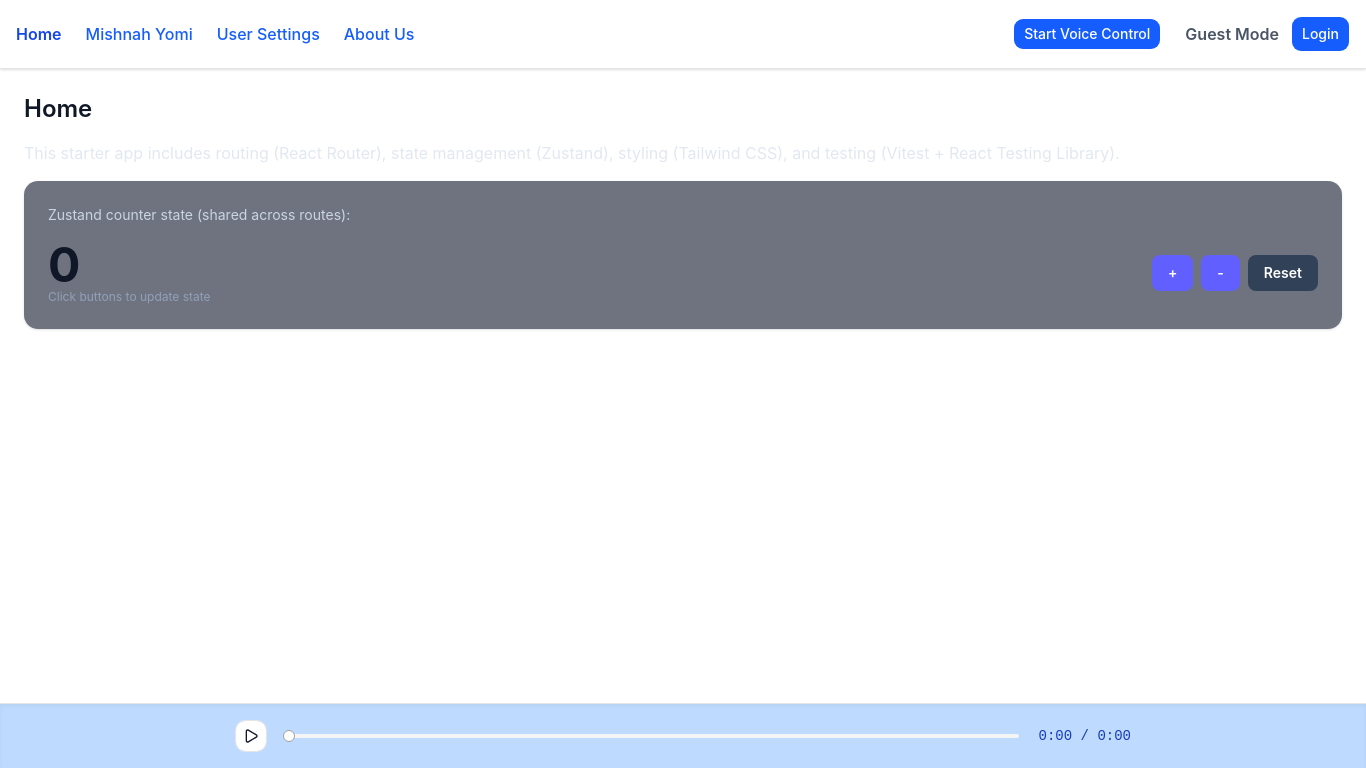
Test: App routing › renders the home page and updates the counter
The image size is (1366, 768).
Expected: the heading "Home" is shown, [24, 94, 92, 123]
Click the button "+": [1173, 273] box [1152, 255, 1193, 291]
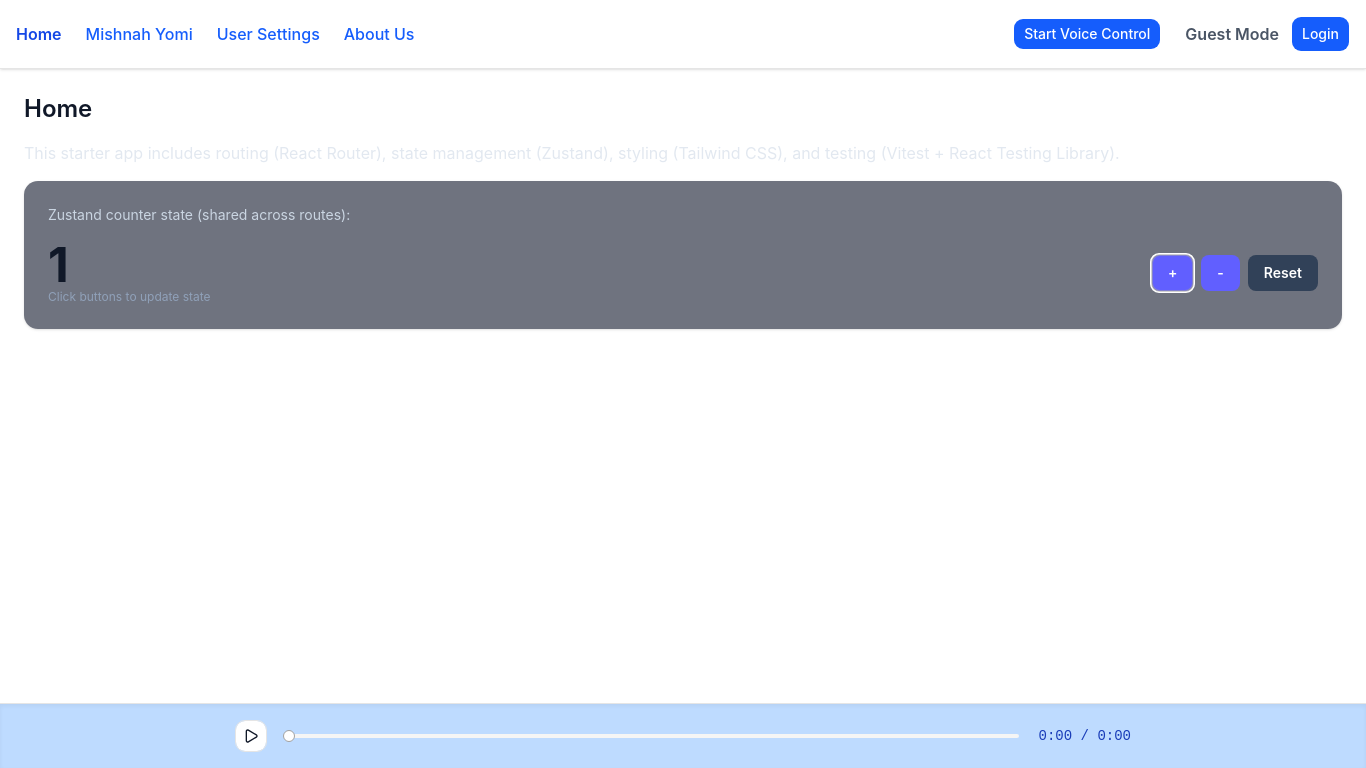
Expected: the text "0" reads "1", [48, 235, 69, 294]
